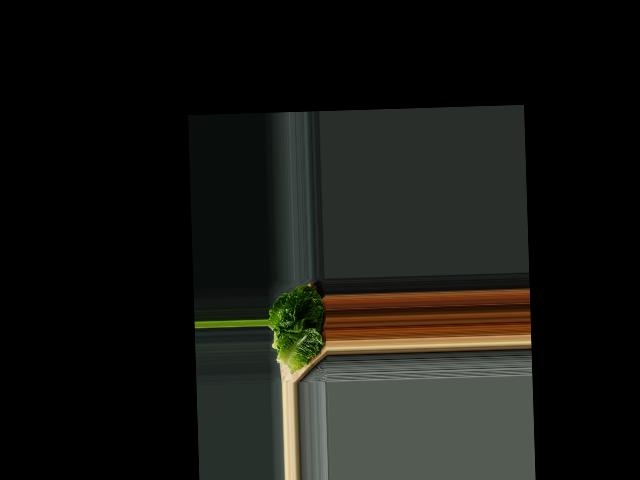lettuce: (267, 282, 328, 371)
